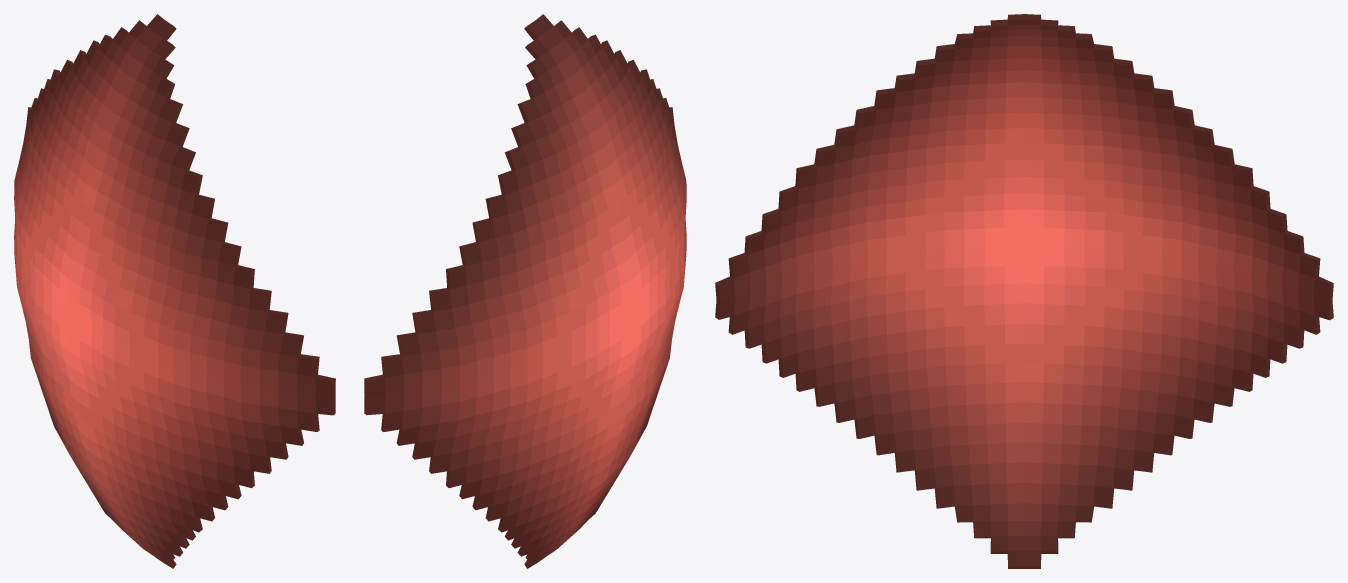
The model's file is heatmap.dae.
3 renders of one model, left to right at view 1: azimuth 30°, elevation 25°; view 2: azimuth 150°, elevation 25°; view 3: azimuth 270°, elevation 25°, orthographic. The views are drawn at different scales.
Parts seen in each view (by area): view 1: Sphere; view 2: Sphere; view 3: Sphere.
Part boxes in pixels (x1=…): Sphere: x1=14, y1=14, x2=335, y2=568; Sphere: x1=364, y1=14, x2=686, y2=568; Sphere: x1=715, y1=14, x2=1333, y2=568.
Size of the model in its own units: 1.34 by 5.91 by 5.84.
